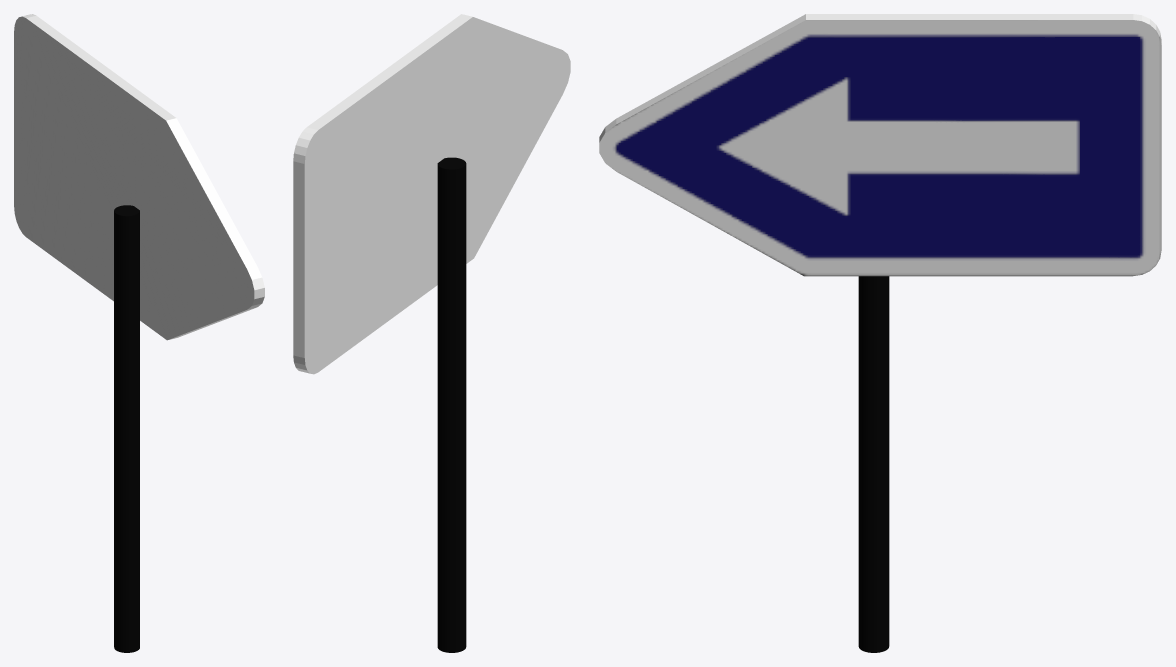
Rendered from Sign_Left_Arrow_Blue.fbx.
3 views of the same model, side by side, from view 1: azimuth 30°, elevation 25°; view 2: azimuth 150°, elevation 25°; view 3: azimuth 270°, elevation 25° (orthographic). The views are drawn at different scales.
Parts seen in each view (by area): view 1: Cube.003, Pole_Park_Yellow.002; view 2: Cube.003, Pole_Park_Yellow.002; view 3: Cube.003, Pole_Park_Yellow.002.
Part boxes in pixels (left/top/right/bottom): Cube.003: left=14, top=14, right=264, bottom=340; Pole_Park_Yellow.002: left=114, top=205, right=139, bottom=652; Cube.003: left=293, top=14, right=570, bottom=374; Pole_Park_Yellow.002: left=437, top=157, right=466, bottom=652; Cube.003: left=599, top=14, right=1161, bottom=276; Pole_Park_Yellow.002: left=858, top=276, right=889, bottom=652.
Bounding box in the file's own units: 6.76 × 111 × 88.89.
